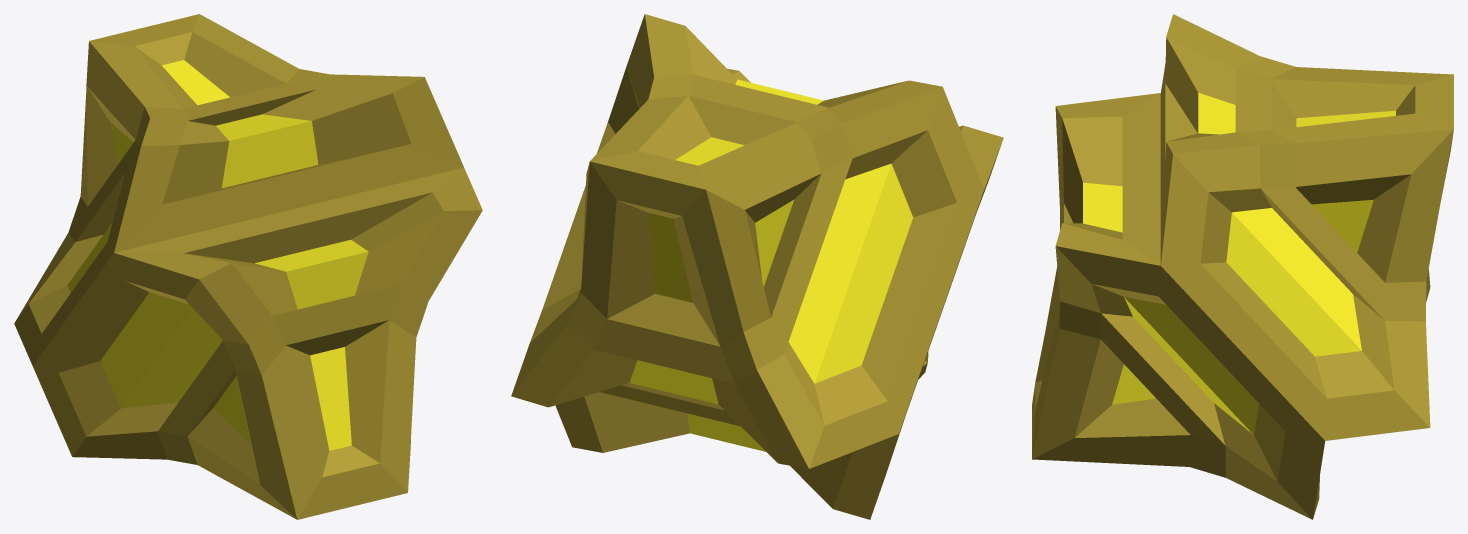
The model's file is Drop2.fbx.
The picture shows the model from 3 angles, left to right: view 1: azimuth 30°, elevation 25°; view 2: azimuth 150°, elevation 25°; view 3: azimuth 270°, elevation 25°; orthographic projection. The views are drawn at different scales.
Parts seen in each view (by area): view 1: Drop Medium; view 2: Drop Medium; view 3: Drop Medium.
Part boxes in pixels (left/top/right/bottom): Drop Medium: left=14, top=14, right=482, bottom=519; Drop Medium: left=511, top=14, right=1003, bottom=519; Drop Medium: left=1032, top=14, right=1453, bottom=519.
Bounding box in the file's own units: 206 × 204 × 213.
Materials: 1 (1 with a texture image).
